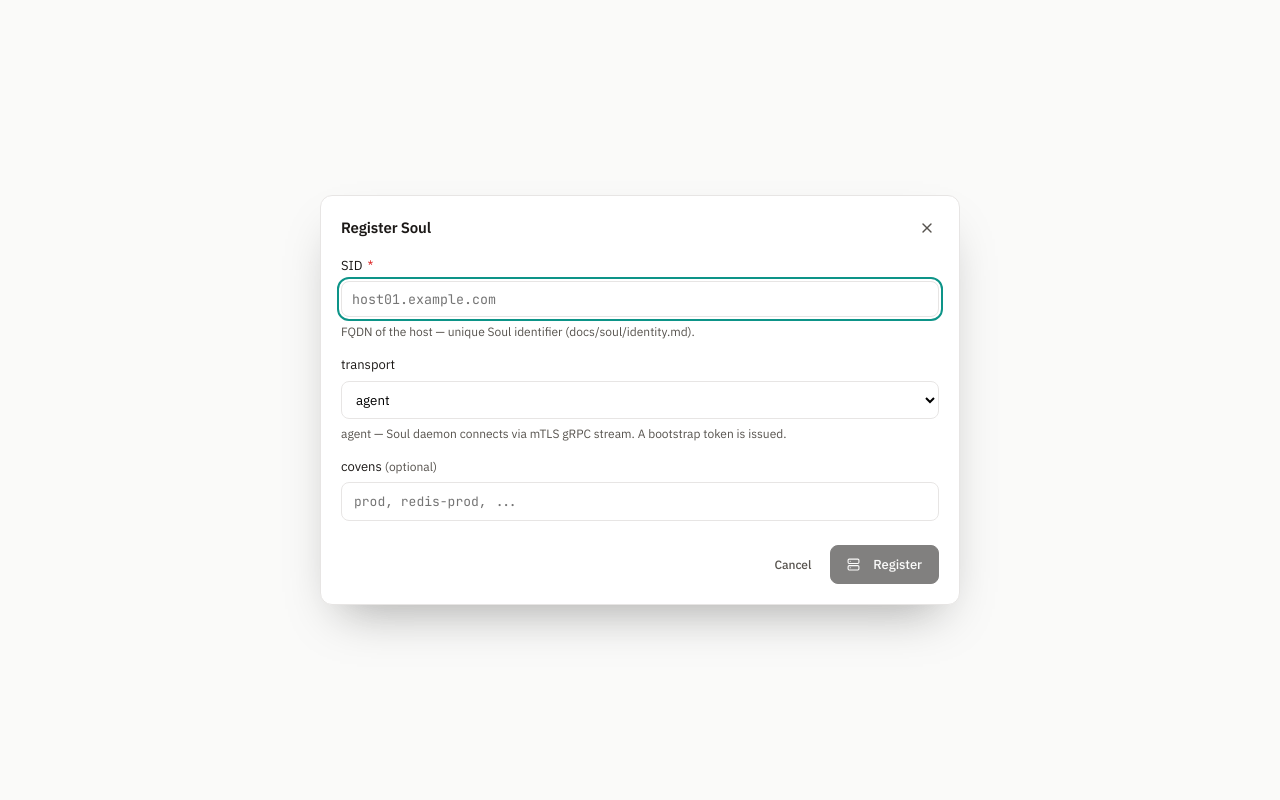
CreateSoulModal › transport=ssh — success without bootstrap_token, shows SSH message
The width and height of the screenshot is (1280, 800).
Type "host02.example.com" into the field named "new host SID" at (640, 299), box [341,281,939,317]
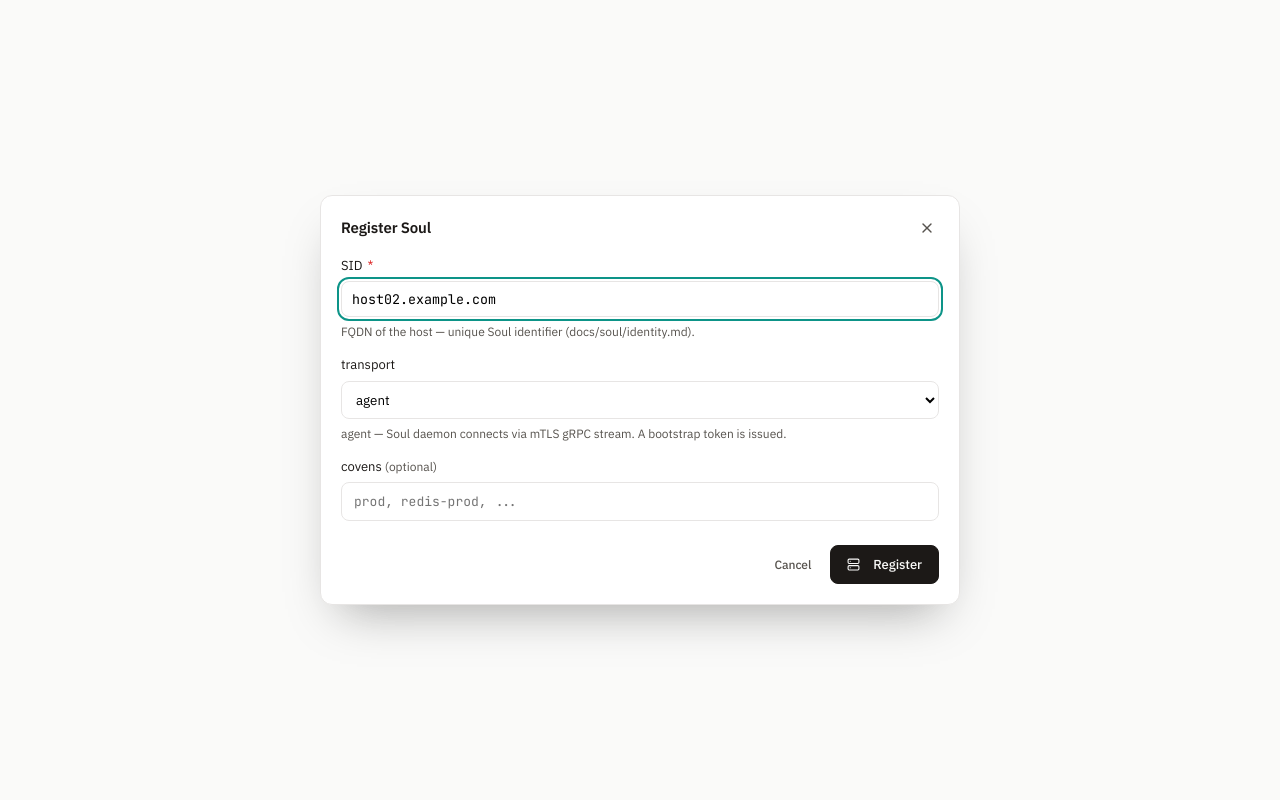
Note: switch transport to ssh
Select "ssh" in the dropdown at (640, 400), box [341,381,939,419]
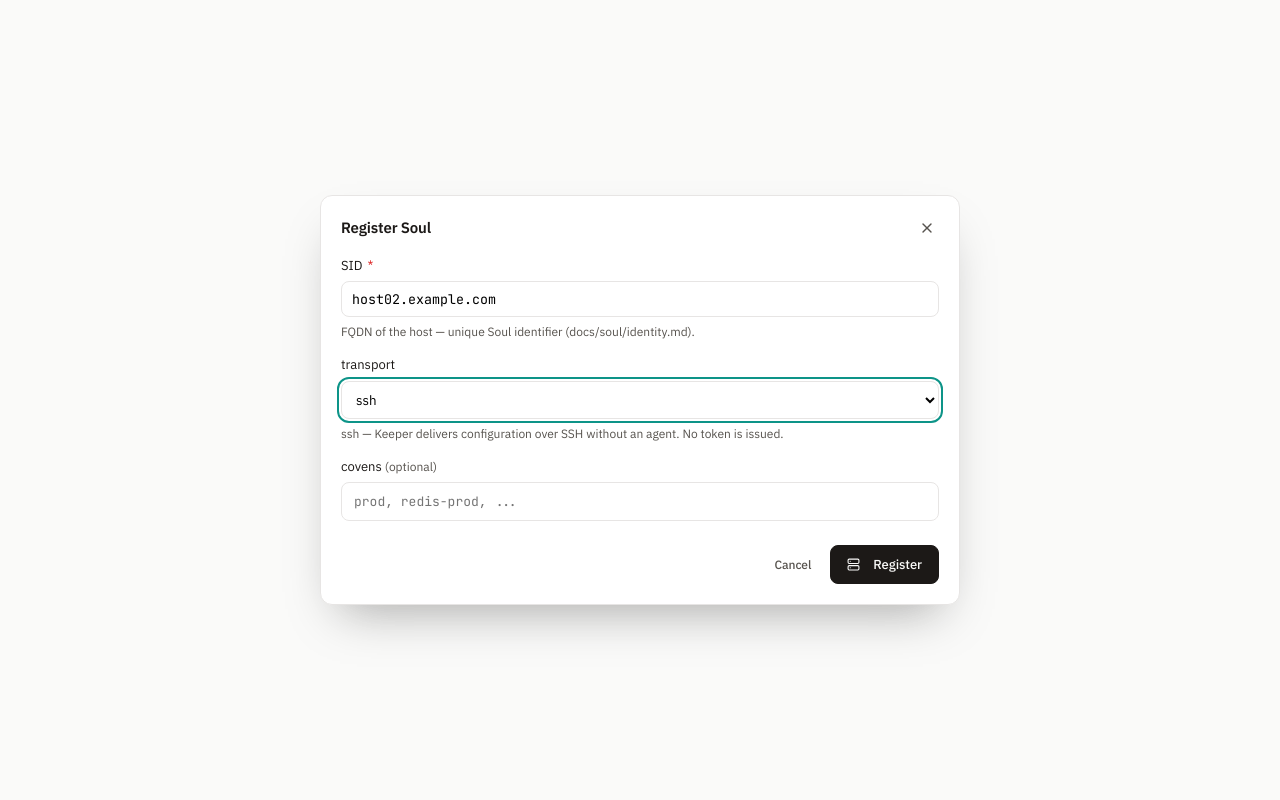
Check: the button "Register" is enabled
Click the button "Register" at (885, 565), box [830,545,939,584]
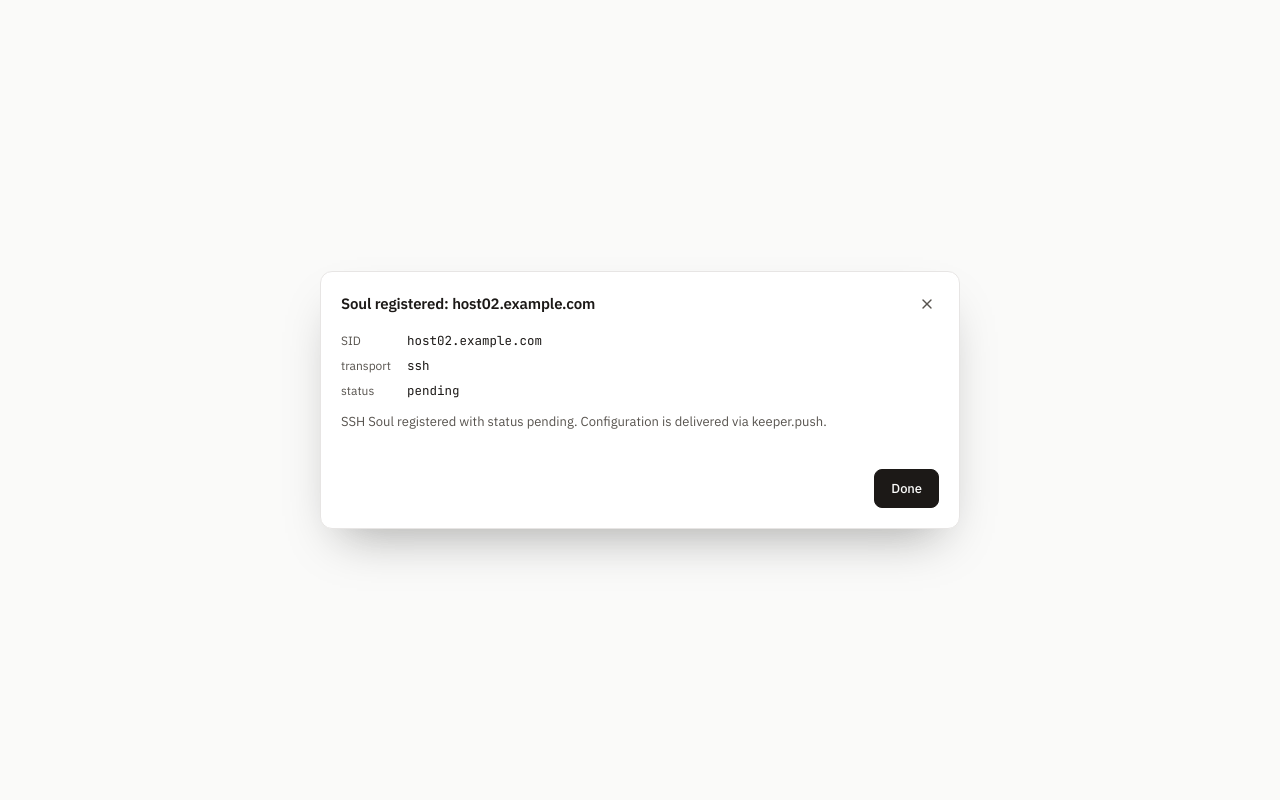
Check: the text "SSH Soul registered" is shown, box [341,413,827,430]
